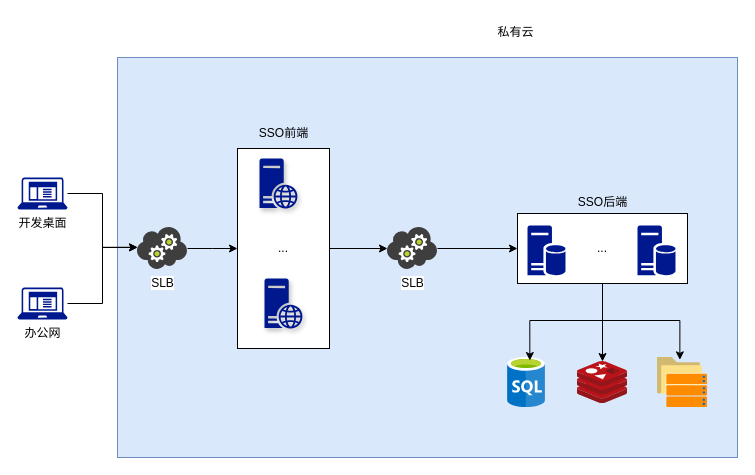
The diagram is 755 pixels wide and 475 high, and some of its shapes have lost their labels. The shapes that lost their labels are listed below. From the top down, each one's centre as x and y in pixels, then its label:
[526,382]: OB
[602,382]: redis
[682,382]: oss
